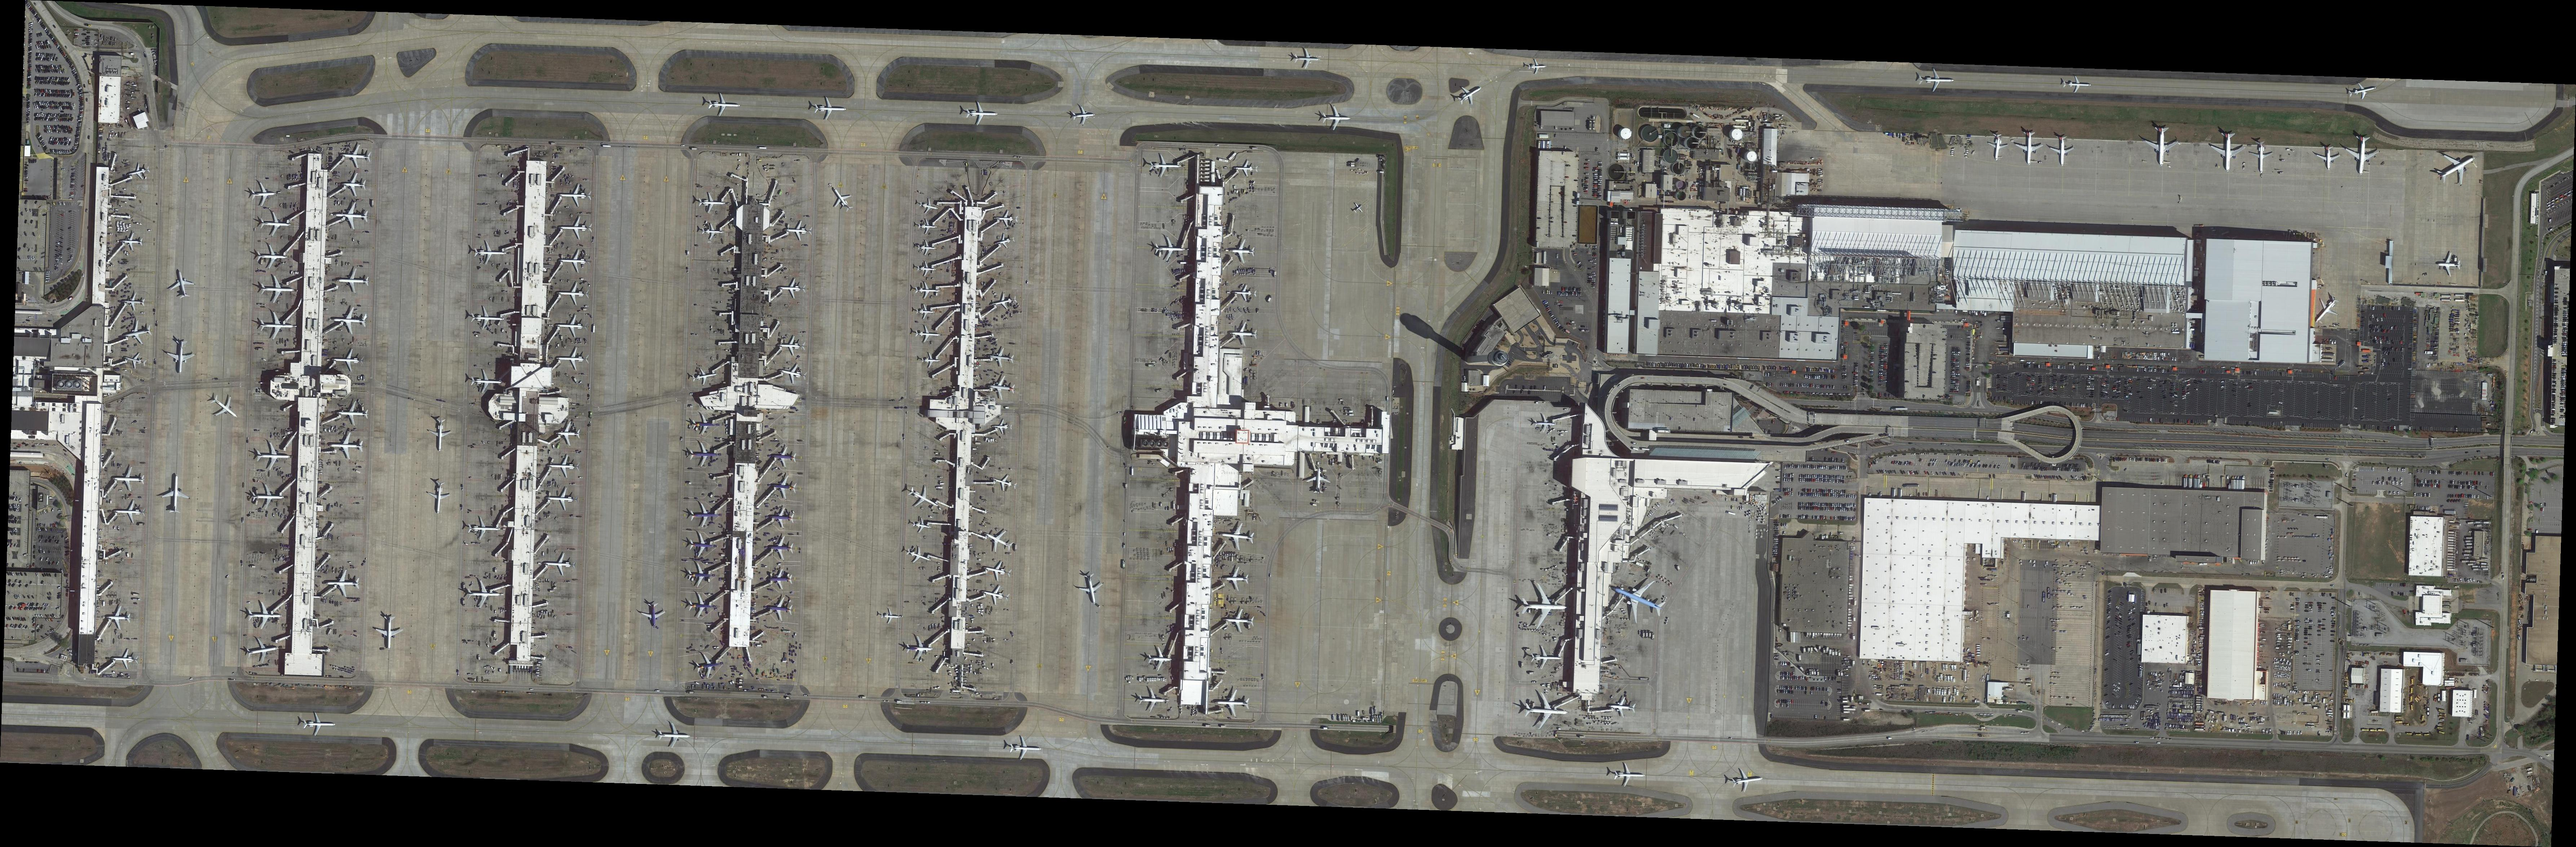plane: (1599, 569, 1672, 630), (2425, 138, 2484, 196), (1518, 579, 1567, 633), (1521, 689, 1571, 734), (2343, 133, 2382, 179), (2141, 125, 2182, 168), (204, 386, 245, 428), (1071, 569, 1111, 610), (2208, 130, 2246, 171), (163, 265, 200, 304), (2308, 289, 2346, 329), (904, 479, 943, 516), (979, 521, 1019, 559), (161, 474, 192, 516), (823, 181, 859, 217), (164, 337, 199, 375), (243, 633, 283, 666), (1219, 521, 1258, 554), (255, 439, 292, 472), (465, 579, 504, 610), (1727, 765, 1768, 794), (692, 648, 726, 683), (2013, 130, 2045, 166), (120, 316, 158, 347), (258, 275, 296, 306), (375, 613, 406, 651), (325, 567, 363, 599), (327, 431, 366, 461), (637, 599, 672, 632), (1452, 79, 1488, 110), (243, 600, 281, 630), (424, 479, 453, 516), (1916, 67, 1957, 94), (655, 720, 692, 750), (258, 311, 294, 340), (1216, 689, 1252, 719), (2343, 79, 2382, 105), (334, 306, 368, 336), (335, 400, 371, 428), (989, 469, 1022, 498), (547, 452, 582, 480), (545, 485, 580, 513), (473, 238, 508, 266), (250, 484, 284, 511), (335, 266, 370, 294), (335, 202, 370, 230), (338, 141, 373, 169), (2049, 133, 2077, 168), (557, 215, 593, 242), (1007, 735, 1043, 761), (775, 360, 812, 386), (470, 304, 506, 331), (2249, 138, 2275, 174), (964, 100, 1001, 127), (555, 183, 593, 207), (330, 349, 368, 373), (986, 372, 1017, 401), (688, 441, 721, 469), (979, 581, 1012, 609), (1153, 235, 1186, 263), (1321, 104, 1354, 132), (427, 416, 453, 451), (113, 498, 148, 525), (112, 465, 146, 492), (258, 211, 292, 237), (255, 243, 289, 270), (467, 515, 501, 541), (544, 551, 578, 577), (981, 558, 1015, 584), (1148, 153, 1183, 179), (555, 312, 587, 340), (248, 181, 279, 209), (301, 712, 338, 735), (762, 595, 795, 622), (764, 535, 797, 561), (470, 368, 503, 395), (1529, 645, 1562, 671), (555, 281, 590, 306), (688, 363, 723, 388), (813, 97, 848, 122), (989, 289, 1023, 314), (1222, 609, 1257, 633), (1306, 465, 1334, 495), (1137, 687, 1166, 715), (1230, 321, 1260, 349), (557, 248, 588, 275), (690, 502, 721, 528), (767, 474, 798, 500), (2315, 143, 2341, 174), (1613, 761, 1644, 788), (775, 334, 808, 359), (708, 92, 741, 117), (123, 160, 156, 184), (688, 531, 716, 559), (687, 561, 715, 589), (687, 592, 715, 620), (555, 345, 585, 372), (904, 541, 933, 567), (1222, 566, 1252, 592), (1229, 238, 1258, 265), (690, 413, 721, 437), (766, 567, 797, 592), (1069, 104, 1101, 128), (555, 421, 583, 447), (107, 604, 133, 632), (767, 507, 797, 531), (2436, 250, 2461, 280), (777, 276, 808, 299), (1986, 132, 2009, 163), (1607, 696, 1638, 719), (342, 173, 368, 199), (905, 635, 933, 660), (987, 345, 1015, 370), (769, 446, 798, 469), (785, 219, 815, 242), (697, 191, 726, 214), (110, 648, 140, 671), (122, 350, 151, 373), (2062, 74, 2095, 94), (1147, 646, 1173, 671), (1295, 48, 1322, 71), (915, 194, 941, 217), (915, 280, 943, 301), (123, 289, 148, 312), (992, 230, 1019, 252), (913, 324, 941, 344), (122, 230, 146, 252), (1533, 413, 1557, 434), (700, 222, 726, 242), (992, 209, 1019, 229), (1232, 283, 1258, 303), (1234, 160, 1262, 178), (912, 513, 935, 535), (915, 258, 938, 278), (1526, 58, 1551, 76), (991, 418, 1015, 436), (879, 607, 902, 625), (917, 238, 938, 257), (917, 217, 938, 235), (920, 352, 941, 368), (915, 304, 936, 321), (1349, 199, 1367, 217)
